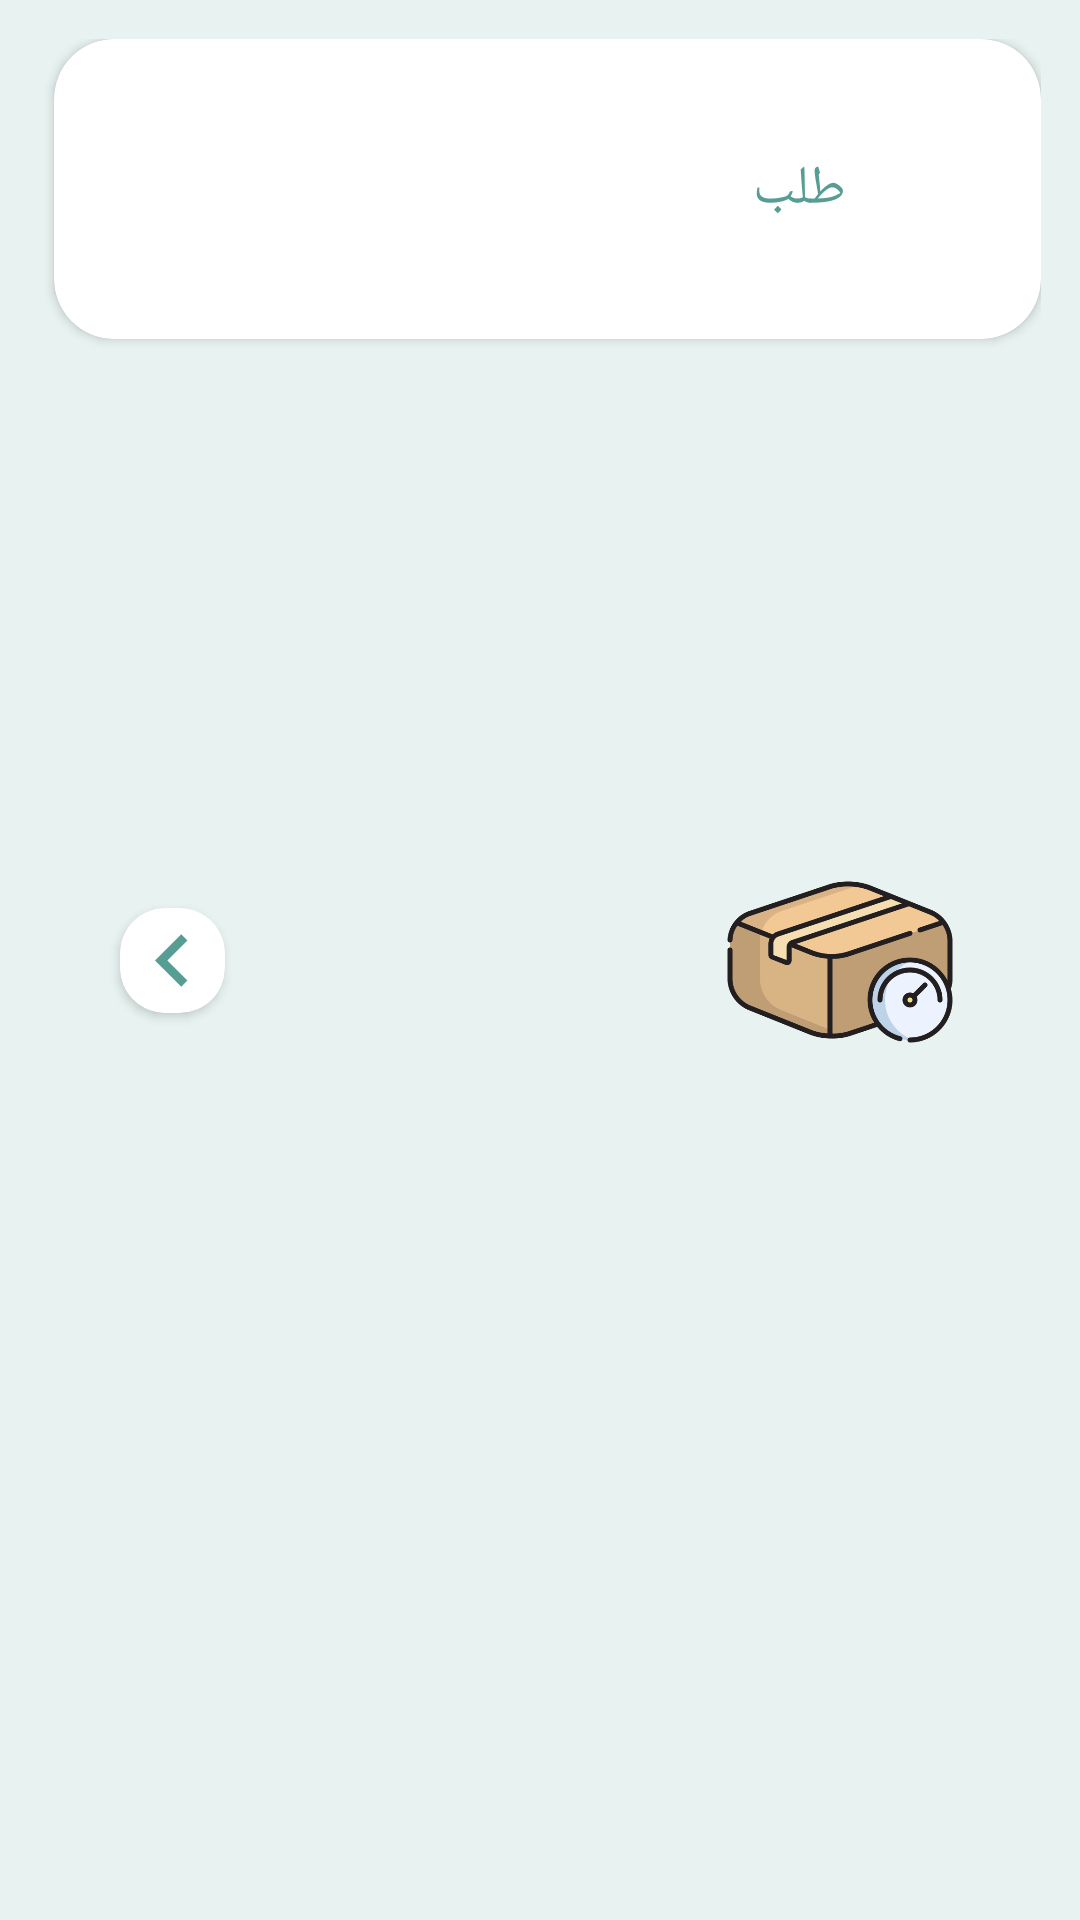

Where to tap for icons on this 1080px×1920px app screen, as point (x, y):
keyboard arrow left: point (172, 960)
parcelweight: point (840, 962)
